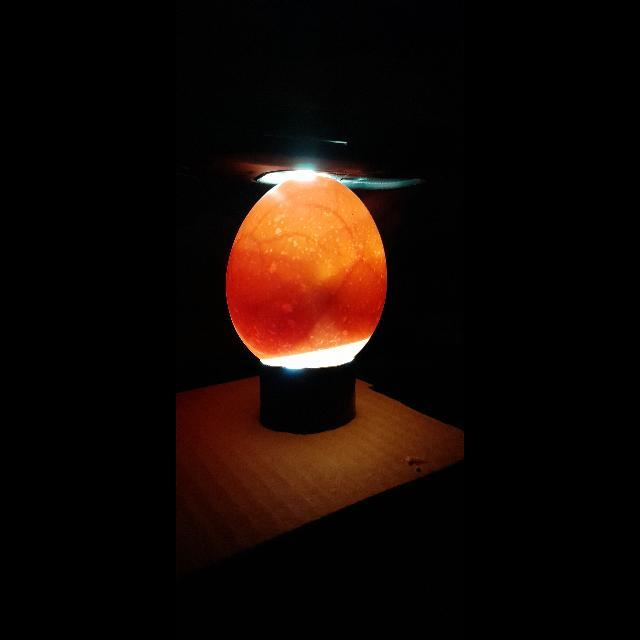Fertile: (227, 170, 386, 374)
